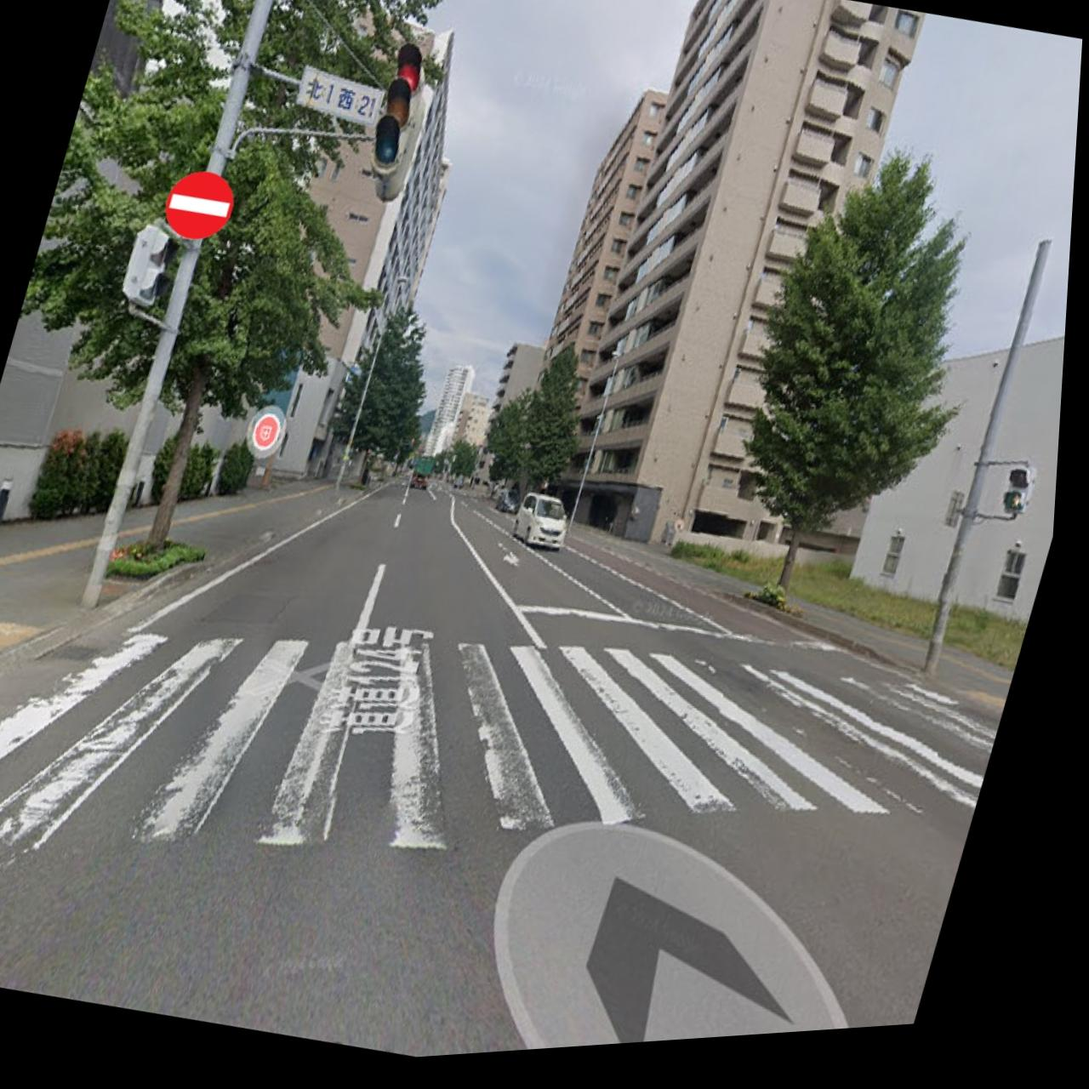barrier: (153, 159, 245, 250)
